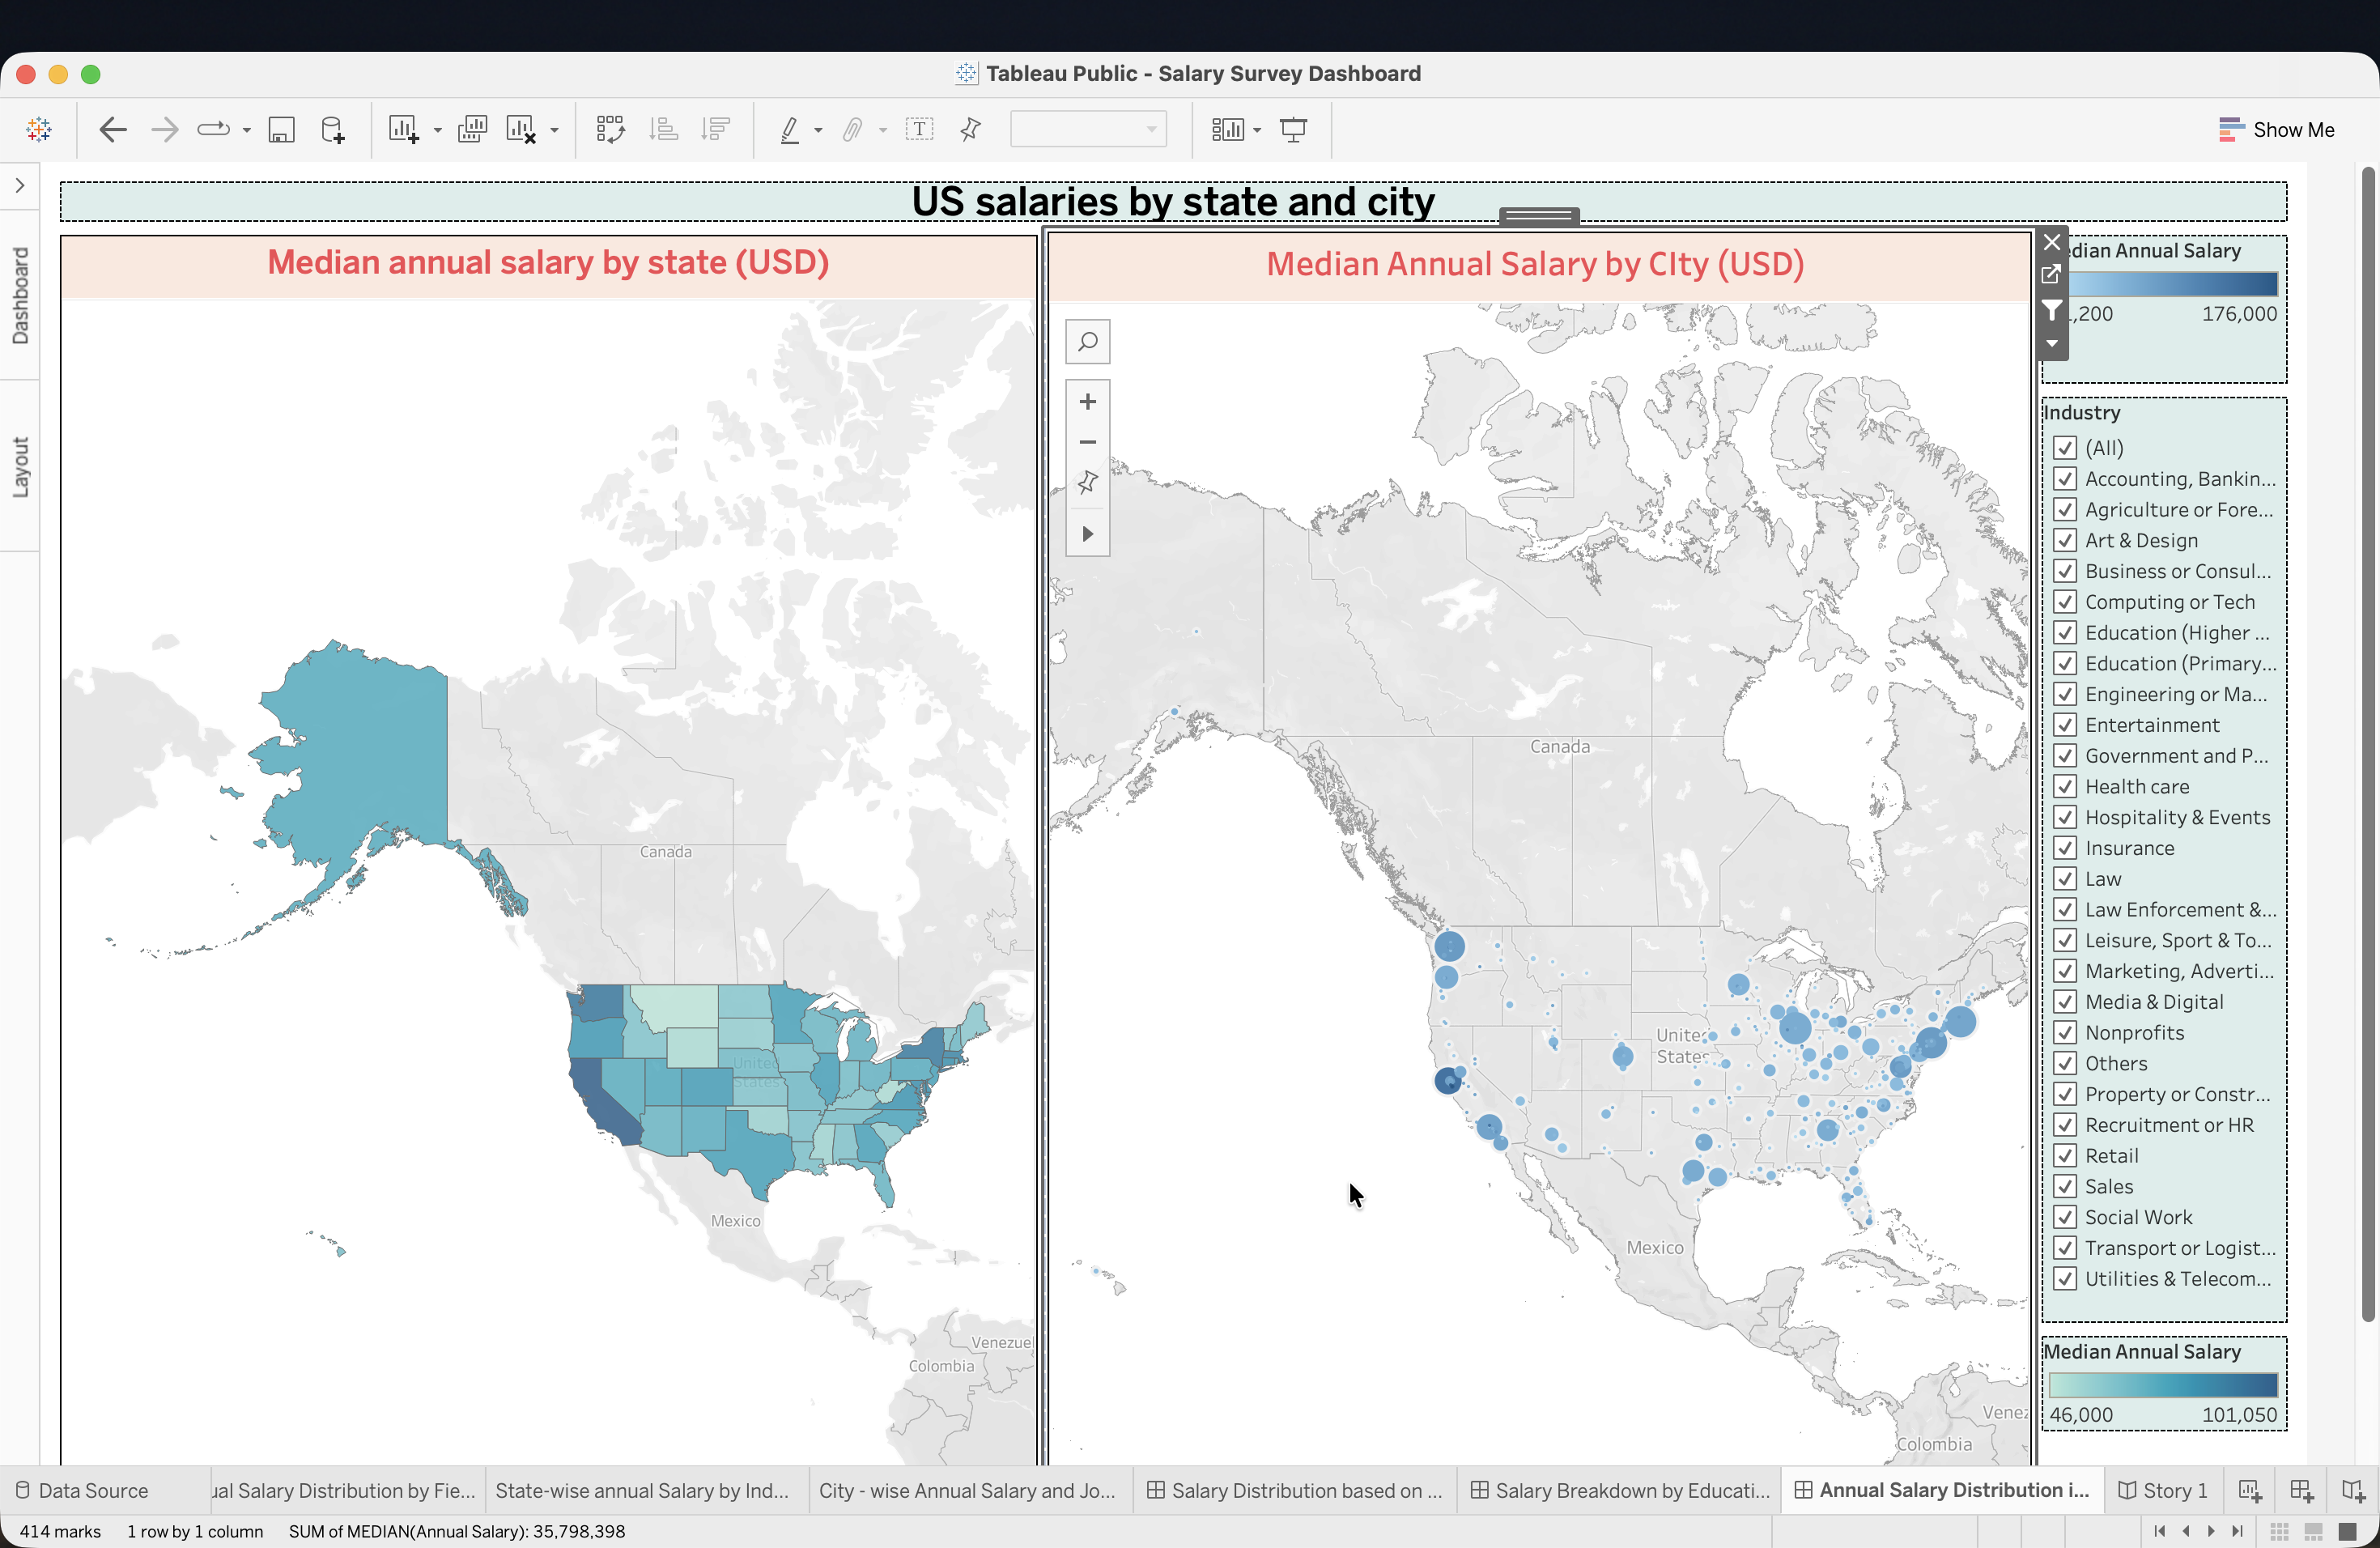

What the dashboard file says about the page in this screenshot:
{"tool":"tableau","page":{"name":"Annual Salary Distribution in USA (By City & State)","canvas":[1200,800],"ordinal":0},"visuals":[{"type":"title","box":[8,8,1184,33]},{"type":"worksheet","title":"State-wise annual Salary by Industry","mark":"Multipolygon","box":[8,41,512,751]},{"type":"worksheet","title":"City - wise Annual Salary and Job Title Distribution","mark":"Automatic","box":[520,41,512,751]},{"type":"legend","title":"City - wise Annual Salary and Job Title Distribution","param":"[federated.17ybfz006q8ie418u3koh10mw5vd].[med:ANNUAL_SALARY:qk]","box":[1032,41,160,100]},{"type":"filter","title":"State-wise annual Salary by Industry","param":"[federated.17ybfz006q8ie418u3koh10mw5vd].[none:INDUSTRY:nk]","box":[1032,141,160,580]},{"type":"legend","title":"State-wise annual Salary by Industry","param":"[federated.17ybfz006q8ie418u3koh10mw5vd].[med:ANNUAL_SALARY:qk]","box":[1032,721,160,67]}]}

Visuals, with their boxes in screenshot pixels (x1, y1, x2, y2):
title: locate(16, 0, 2361, 44)
"State-wise annual Salary by Industry" worksheet (Multipolygon marks): locate(16, 44, 1030, 1531)
"City - wise Annual Salary and Job Title Distribution" worksheet: locate(1030, 44, 2043, 1531)
"City - wise Annual Salary and Job Title Distribution" legend: locate(2043, 44, 2361, 242)
"State-wise annual Salary by Industry" filter: locate(2043, 242, 2361, 1391)
"State-wise annual Salary by Industry" legend: locate(2043, 1391, 2361, 1524)
